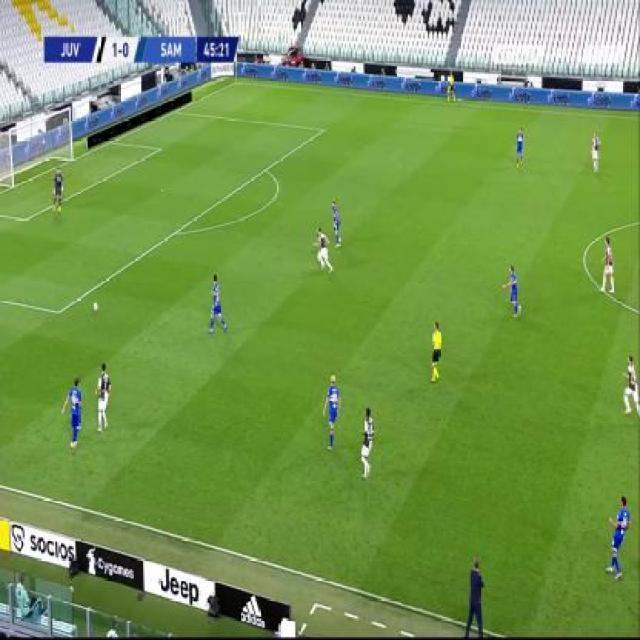ball: (93, 299, 99, 313)
player: (605, 491, 633, 580), (462, 552, 488, 640), (62, 376, 84, 450), (322, 370, 341, 452), (207, 271, 229, 336), (93, 361, 112, 434), (620, 351, 640, 419), (358, 404, 375, 481), (311, 225, 334, 276), (502, 263, 521, 319), (600, 234, 617, 296), (428, 319, 444, 384), (51, 165, 64, 216), (331, 198, 342, 249), (590, 129, 601, 175), (514, 125, 525, 168), (446, 70, 457, 104)
